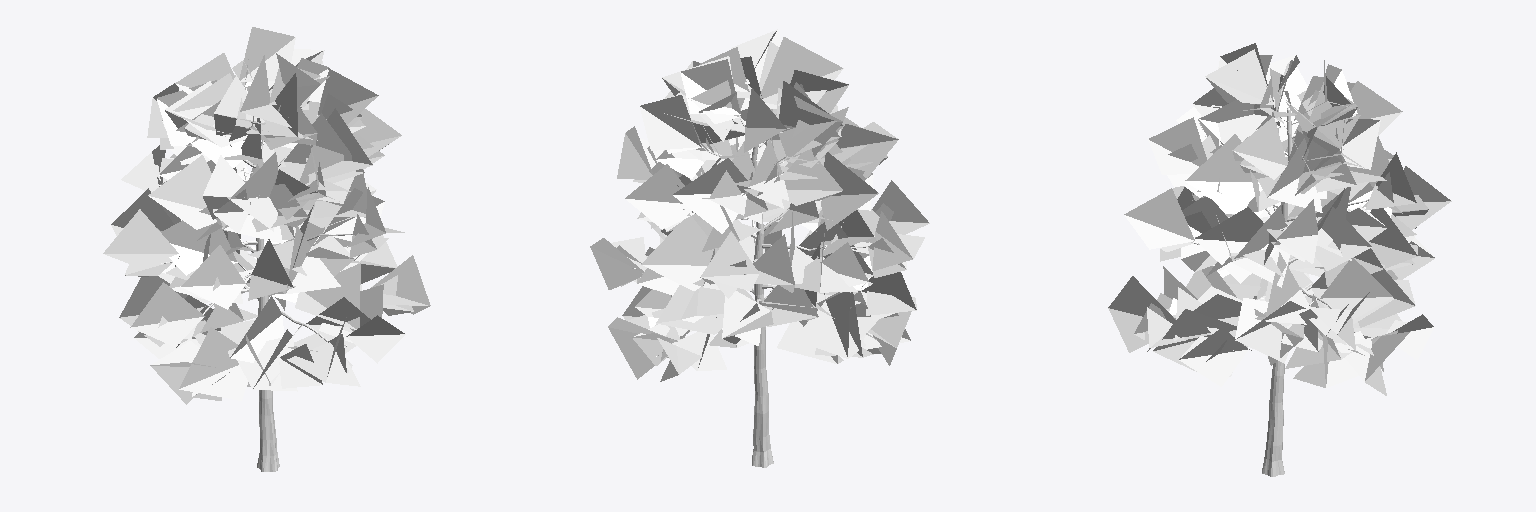
Rendered from beech01.obj.
3 renders of one model, left to right at view 1: azimuth 30°, elevation 25°; view 2: azimuth 150°, elevation 25°; view 3: azimuth 270°, elevation 25°, orthographic.
Visible parts, largest first — view 1: tree; view 2: tree; view 3: tree.
Part boxes in pixels (x1,y1,x2,y2): tree: (103,27,430,471); tree: (590,29,929,467); tree: (1108,43,1451,476).
Bounding box in the file's own units: 194 × 263 × 194.